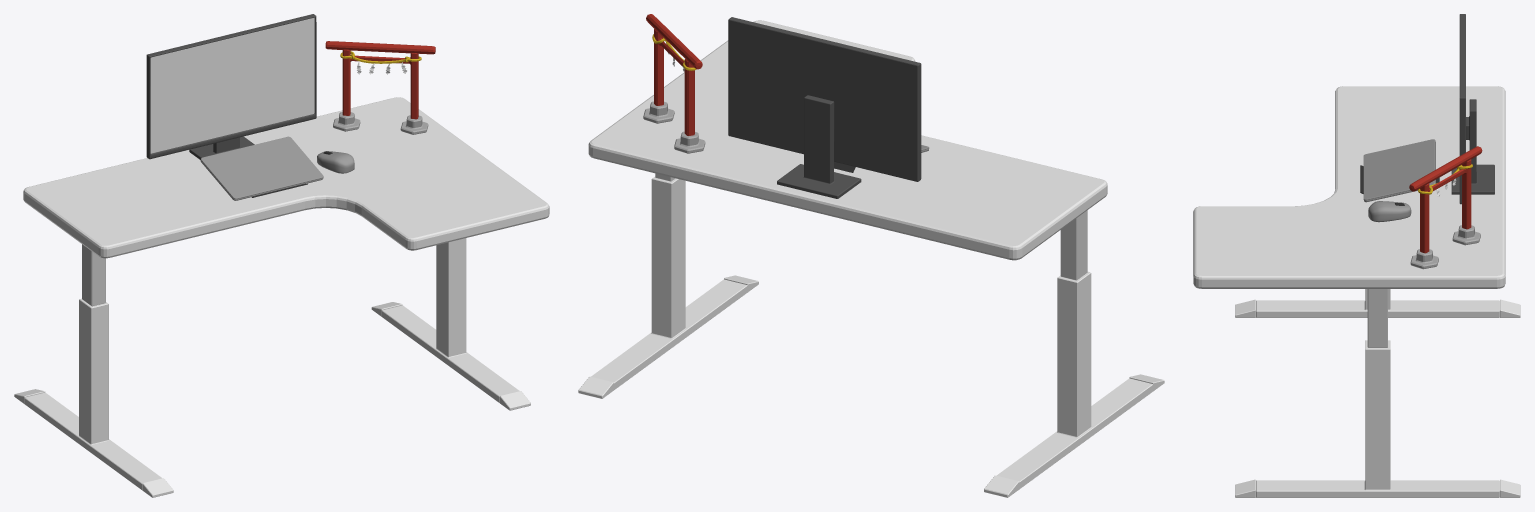
Rendered from model-deskset-v2.glb.
The picture shows the model from 3 angles, left to right: view 1: azimuth 30°, elevation 25°; view 2: azimuth 150°, elevation 25°; view 3: azimuth 270°, elevation 25°; orthographic projection. The views are drawn at different scales.
Visible parts, largest first — view 1: desk-plane, screen, Cube, Plane.003, Plane.001, torii-pillars, Cube.001, Cube.002, torii-tie-beam, torii-base, Plane.006, Plane; view 2: desk-plane, Plane.001, Cube, Plane, Cube.002, Cube.001, torii-pillars, torii-base, torii-tie-beam; view 3: desk-plane, Cube, Plane.003, torii-pillars, Plane, Cube.001, Cube.002, Plane.001, torii-base, Plane.006, torii-tie-beam.
Part boxes in pixels (x1=…): desk-plane: x1=23, y1=97, x2=549, y2=258; screen: x1=150, y1=17, x2=314, y2=153; Cube: x1=24, y1=238, x2=519, y2=490; Plane.003: x1=201, y1=136, x2=323, y2=199; Plane.001: x1=146, y1=14, x2=316, y2=159; torii-pillars: x1=342, y1=49, x2=418, y2=119; Cube.001: x1=14, y1=302, x2=530, y2=497; Cube.002: x1=82, y1=244, x2=105, y2=306; torii-tie-beam: x1=325, y1=41, x2=435, y2=54; torii-base: x1=333, y1=112, x2=428, y2=134; Plane.006: x1=317, y1=151, x2=354, y2=173; Plane: x1=189, y1=136, x2=254, y2=159; desk-plane: x1=588, y1=20, x2=1107, y2=260; Plane.001: x1=728, y1=17, x2=921, y2=181; Cube: x1=591, y1=176, x2=1153, y2=489; Plane: x1=777, y1=95, x2=861, y2=198; Cube.002: x1=655, y1=173, x2=1087, y2=280; Cube.001: x1=578, y1=275, x2=1164, y2=497; torii-pillars: x1=654, y1=29, x2=694, y2=135; torii-base: x1=643, y1=101, x2=705, y2=153; torii-tie-beam: x1=646, y1=14, x2=702, y2=69; desk-plane: x1=1193, y1=86, x2=1505, y2=288; Cube: x1=1256, y1=289, x2=1499, y2=497; Plane.003: x1=1363, y1=139, x2=1435, y2=200; torii-pillars: x1=1420, y1=159, x2=1471, y2=253; Plane: x1=1451, y1=99, x2=1494, y2=194; Cube.001: x1=1235, y1=299, x2=1520, y2=497; Cube.002: x1=1367, y1=289, x2=1387, y2=347; Plane.001: x1=1459, y1=14, x2=1465, y2=204; torii-base: x1=1410, y1=225, x2=1480, y2=269; Plane.006: x1=1368, y1=201, x2=1411, y2=222; torii-tie-beam: x1=1409, y1=146, x2=1482, y2=191.
Bounding box in the file's own units: 1.6 × 1.35 × 1.15.
